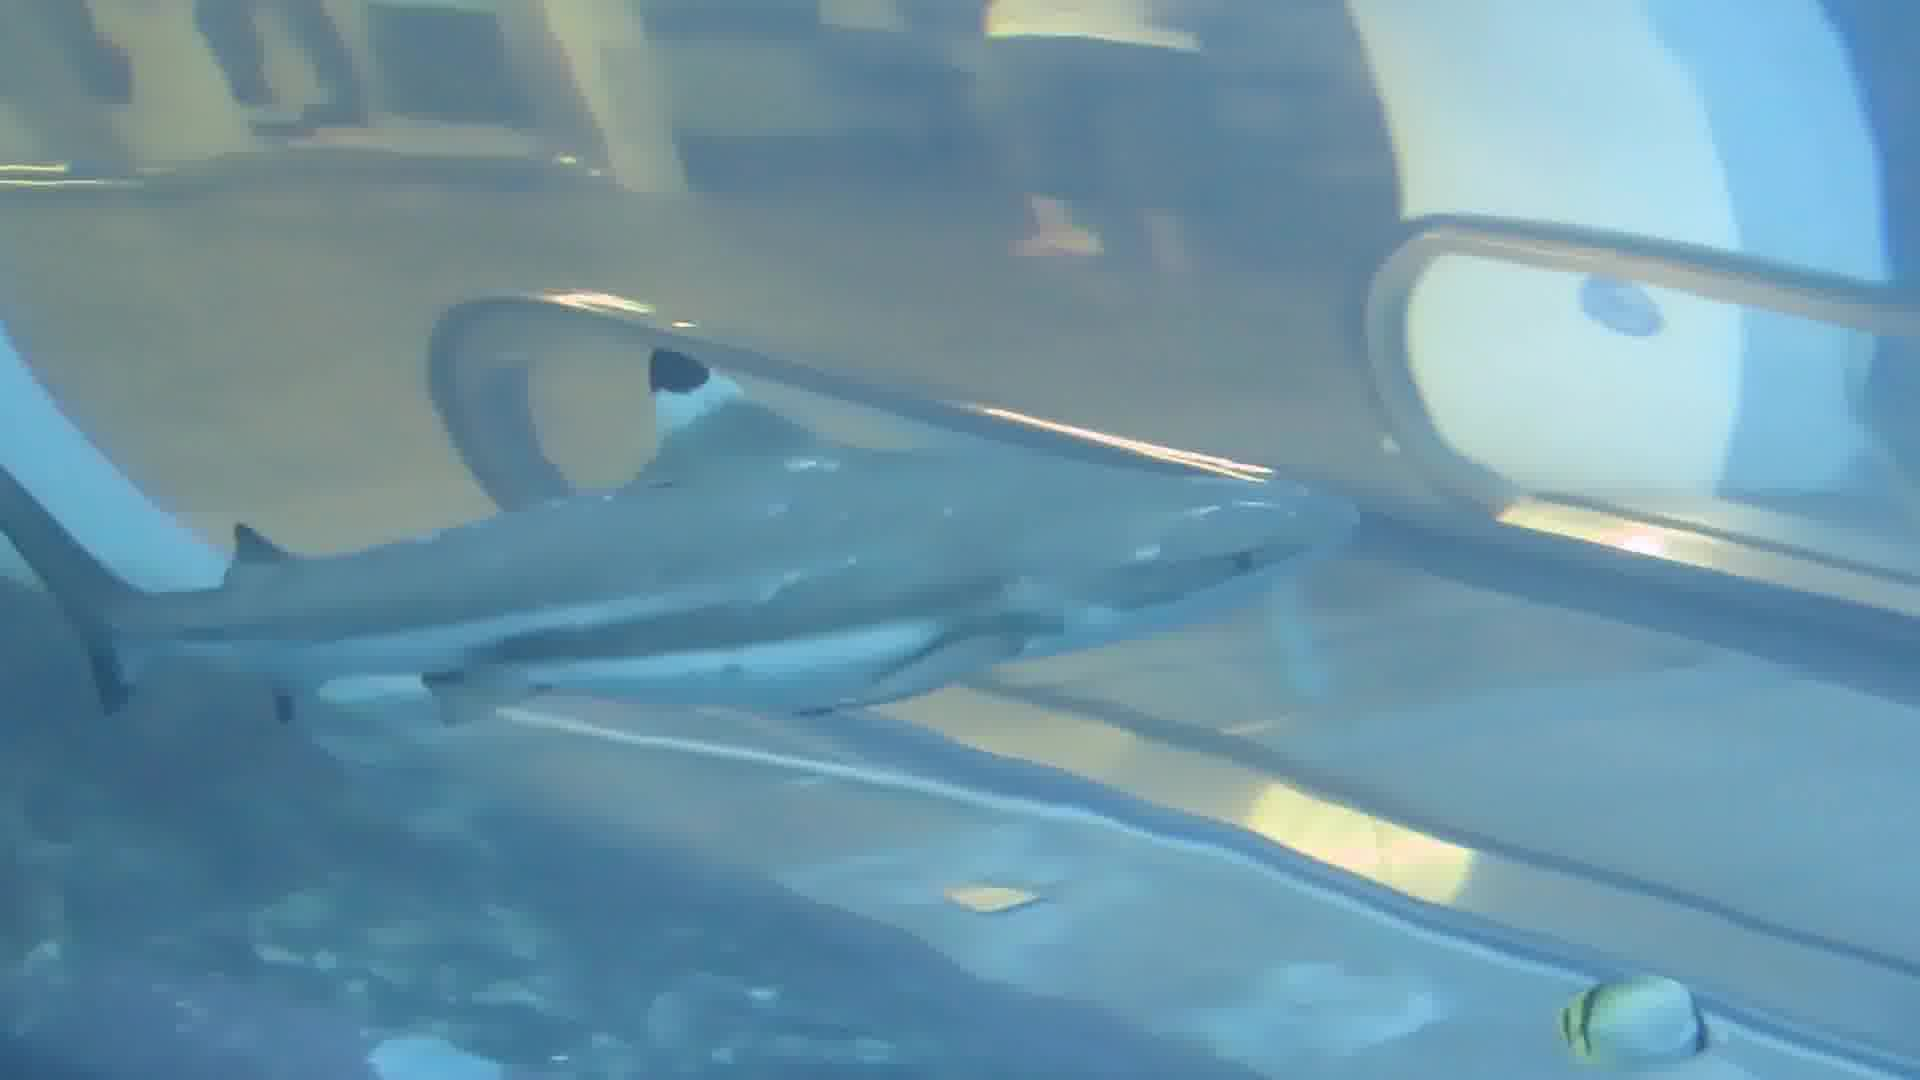Carcharhinus melanopterus: (1, 332, 1382, 752)
